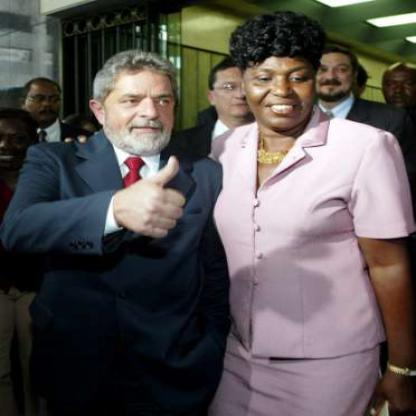face: (243, 25, 320, 130), (104, 53, 180, 158), (211, 65, 265, 120), (312, 47, 356, 101), (27, 79, 64, 124)
